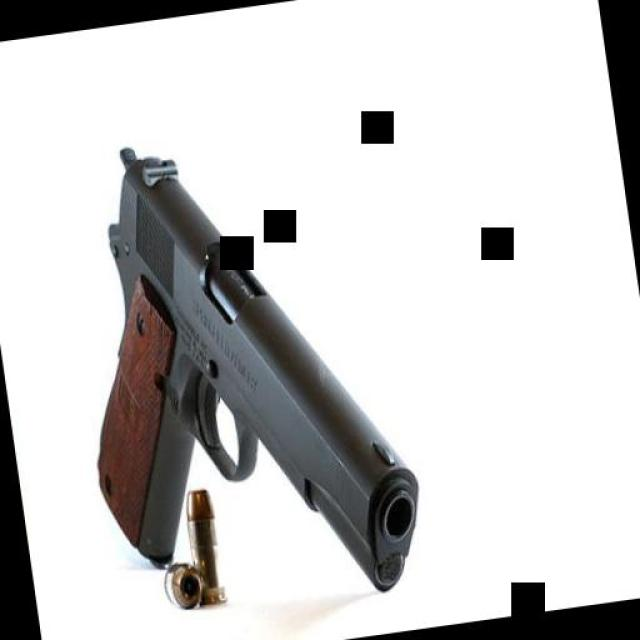gun: (51, 113, 429, 628)
